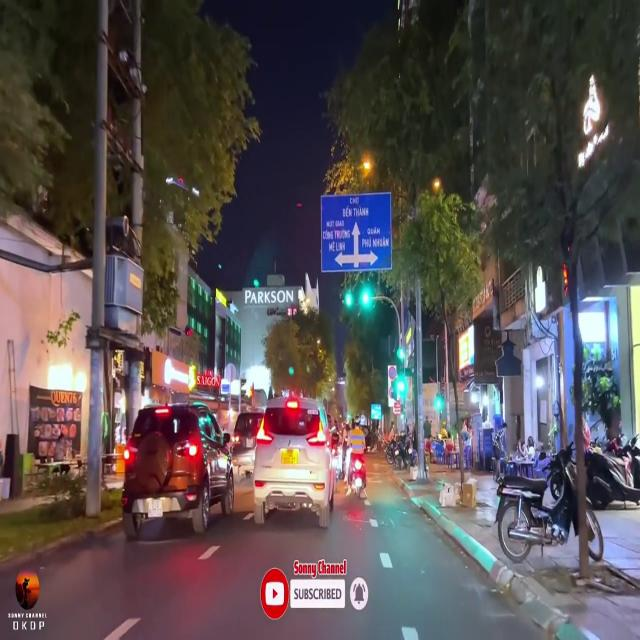bien_trang: (148, 500, 164, 518)
bien_vang: (280, 448, 298, 465)
